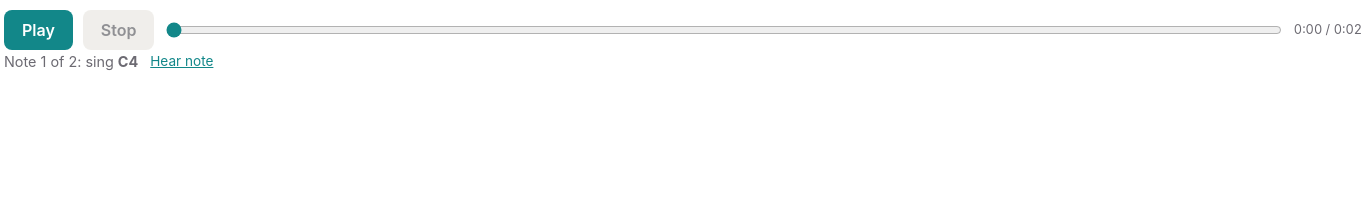
Test: Wait for me score › shows a run started partway, without charting it
Set the slider to "1" at (724, 30), box left=166, top=22, right=1282, bottom=38
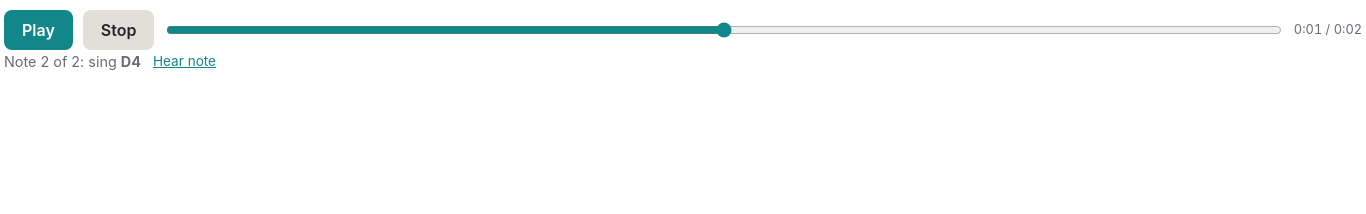
Click the button "Play" at (38, 30), box left=4, top=10, right=73, bottom=50
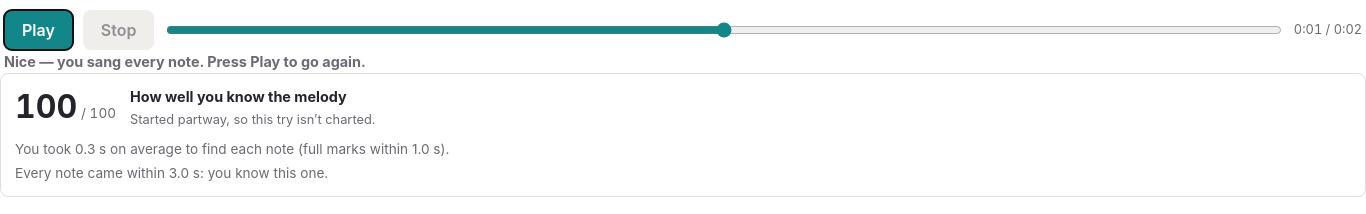
Result: the text "Started partway, so this try isn’t charted." is shown at left=130, top=110, right=376, bottom=129
